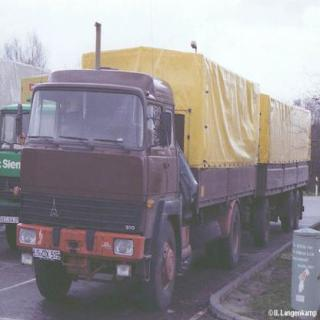Normal_vehicle: (11, 32, 264, 310)
